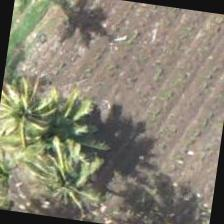Kelapa_Sawit: (16, 75, 118, 177), (16, 127, 118, 223), (0, 71, 73, 171), (0, 130, 48, 215)
